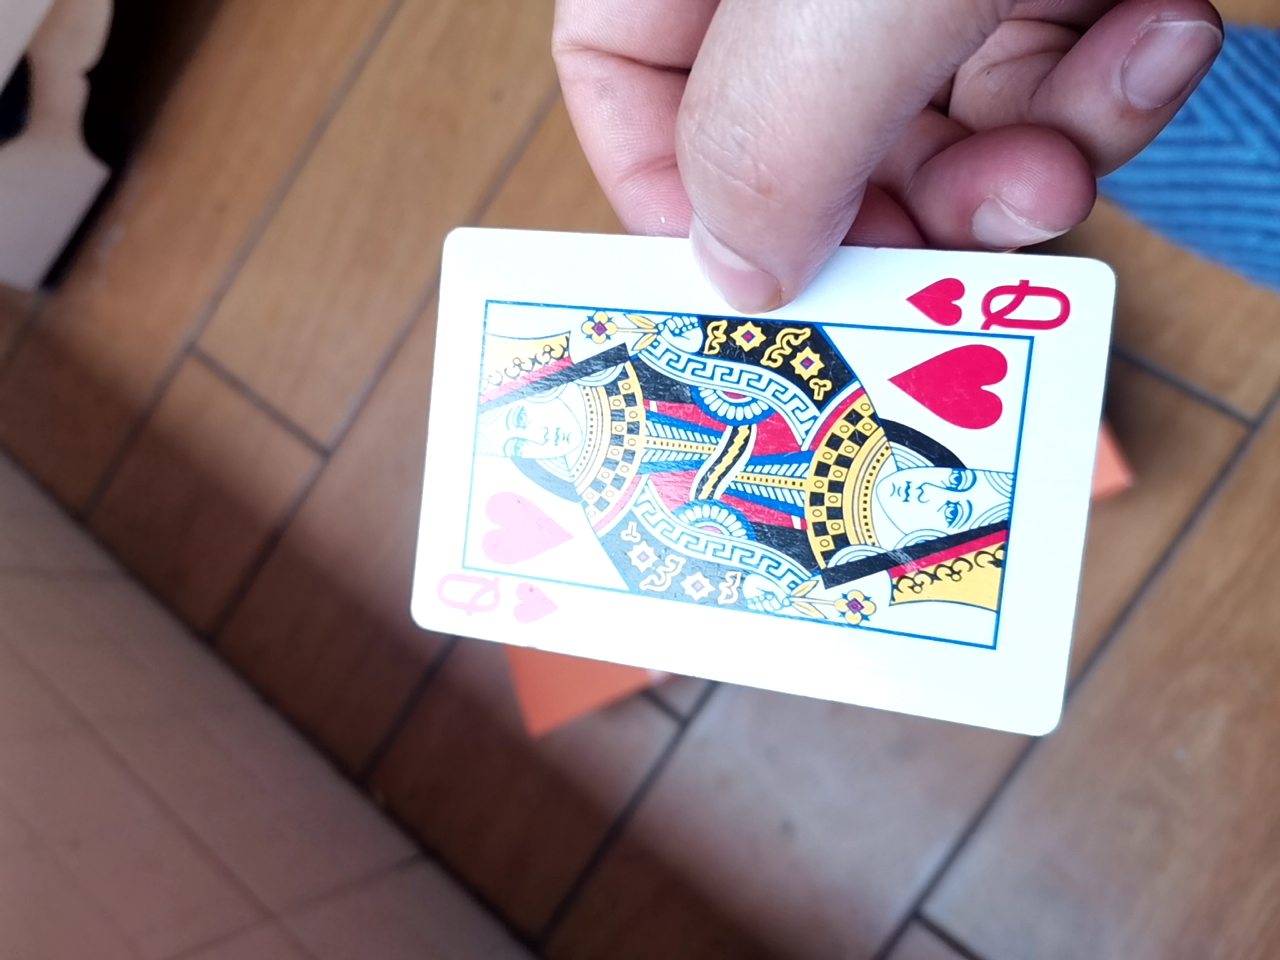hx q: (375, 232, 1123, 740)
